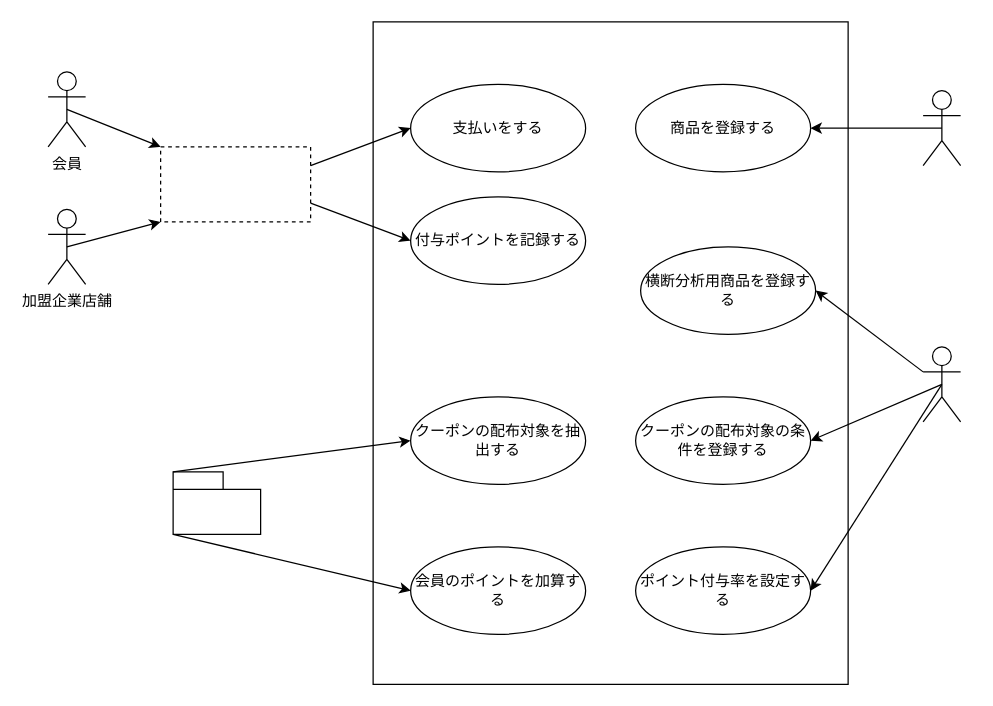
Some shapes in this 993 by 706 pixel diagram are drawn without their labels. Here are the shapes that lost their labels. From the top down, the box of each, then its label:
(922, 89, 961, 166): 加盟企業
(159, 146, 311, 222): 会計システム
(372, 21, 848, 684): ポイントシステム
(922, 346, 961, 422): B社
(172, 471, 261, 534): バッチ
